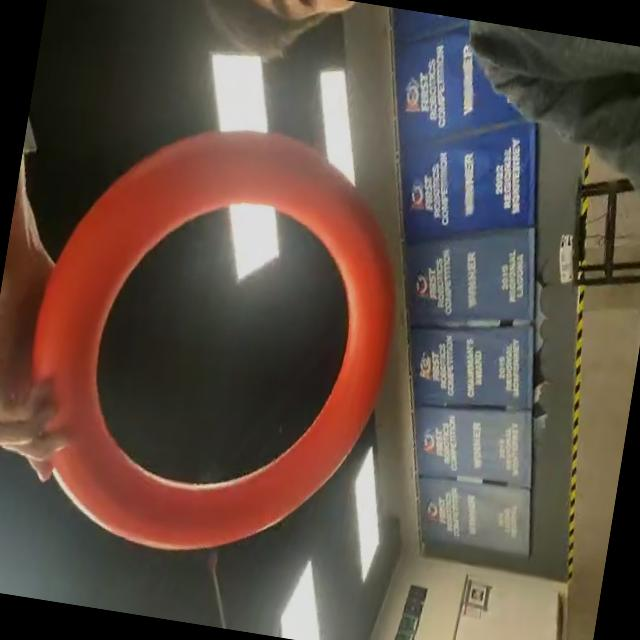note: (1, 105, 424, 588)
